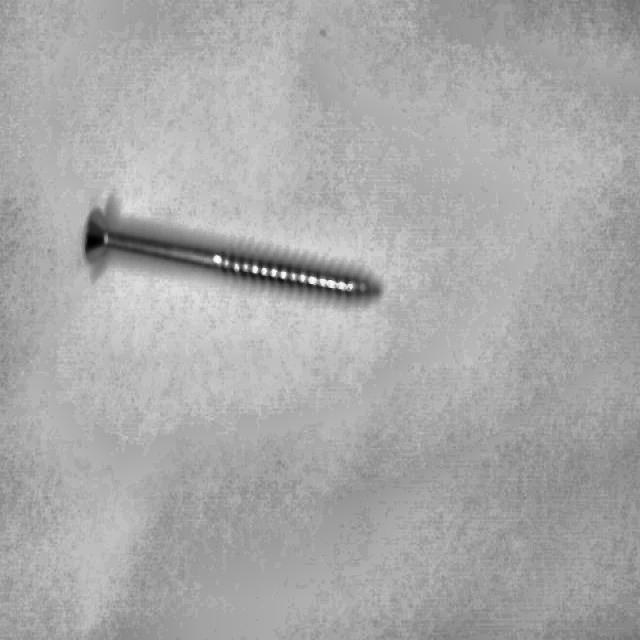Wood screw: (83, 205, 381, 300)
